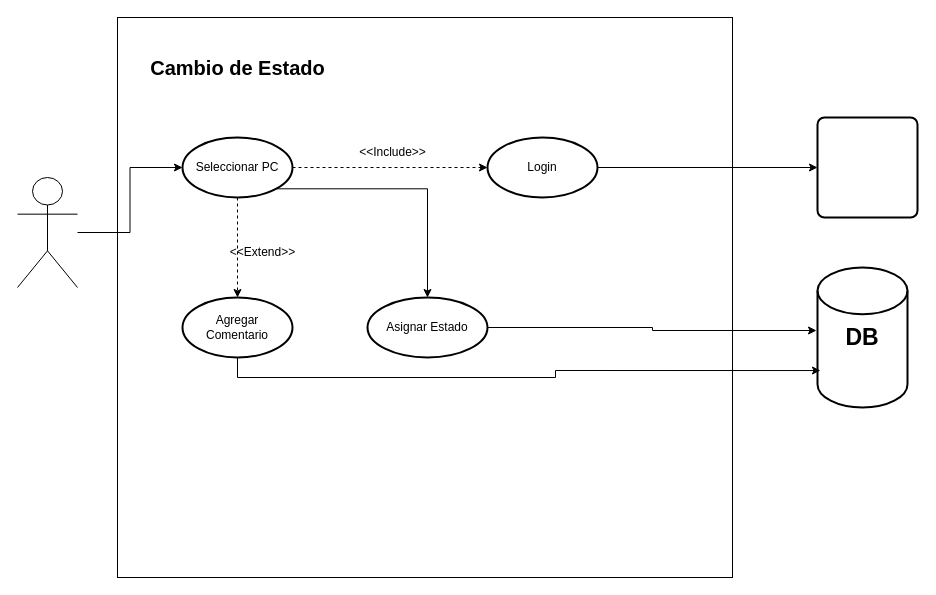
Image size: 936x595. Some labels were removed from this diagram. The box of each missing label's shape, as (x1, y1, x2, y2) in pixels:
Archivo TOM: (816, 116, 918, 218)
Estudiante: (16, 176, 78, 288)
